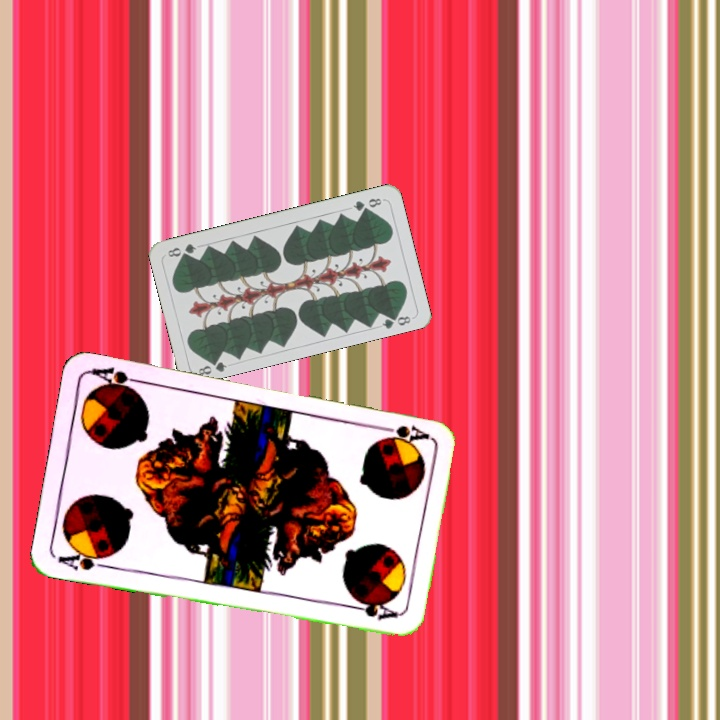G8: (194, 354, 229, 378), (349, 194, 386, 213)
SA: (54, 545, 115, 574), (372, 421, 431, 444)
